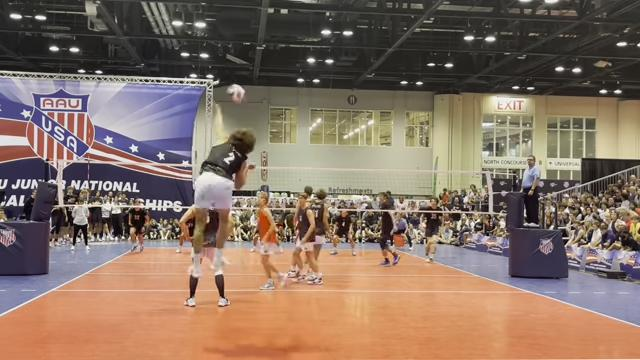Player: (257, 192, 286, 289), (297, 193, 321, 284), (379, 193, 399, 266), (311, 189, 329, 266), (288, 194, 303, 277), (330, 210, 355, 255), (425, 198, 442, 262), (128, 199, 148, 251), (202, 210, 220, 267), (176, 206, 194, 252)
Serve: (192, 95, 259, 288)
ball: (228, 86, 244, 104)
